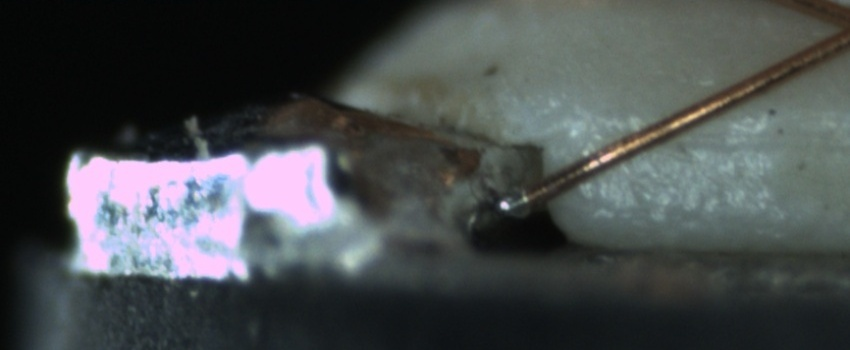DL: (629, 109, 850, 169)
